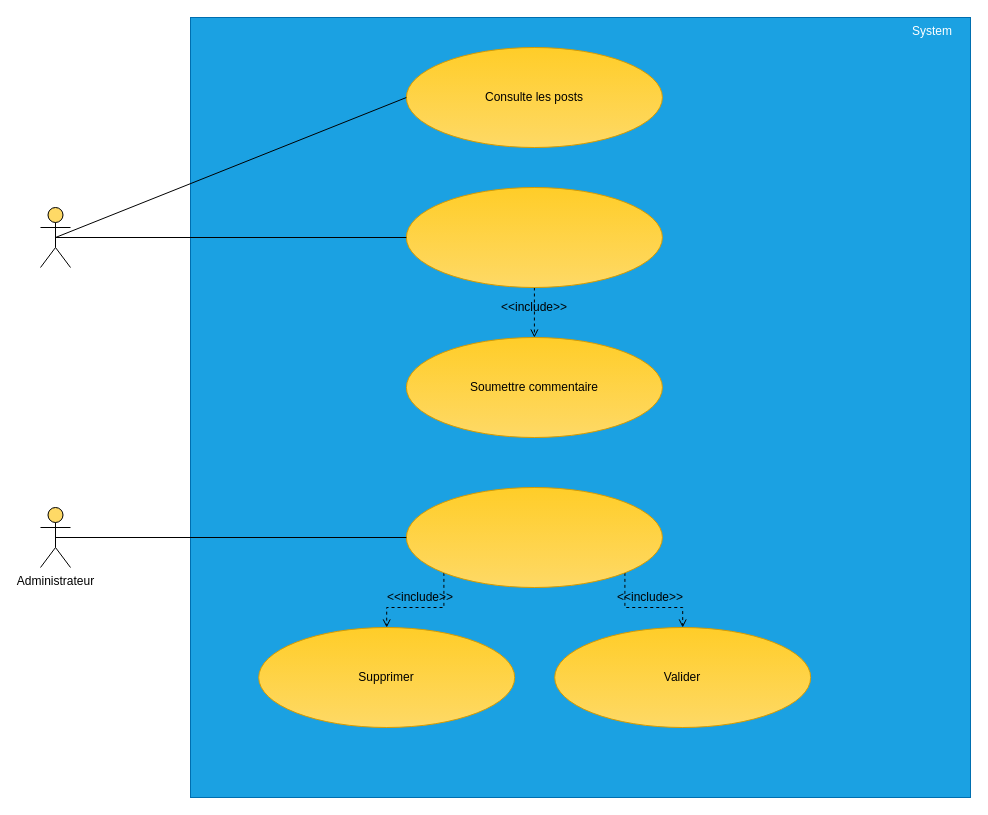
The diagram is 988 pixels wide and 815 high, and some of its shapes have lost their labels. Each missing label, with the box of its shape:
Consulter commentaire en attente: (405, 486, 662, 588)
S'authentifier: (405, 186, 662, 288)
Visiteur: (40, 206, 70, 268)
